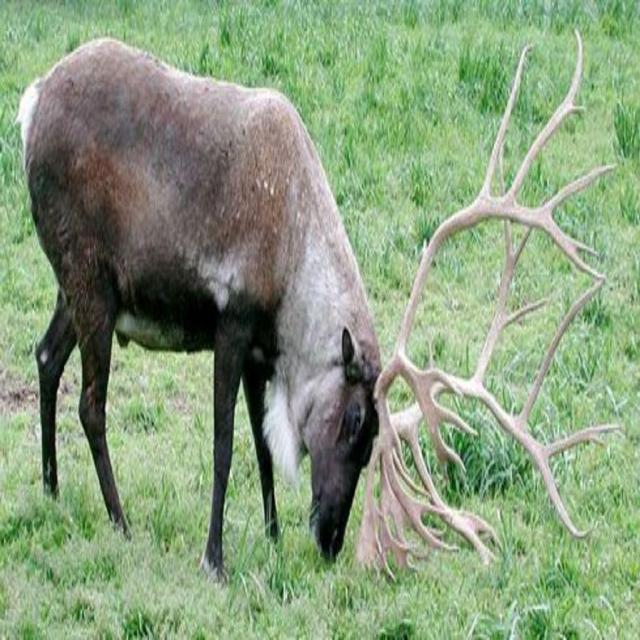Deer: (18, 28, 624, 588)
